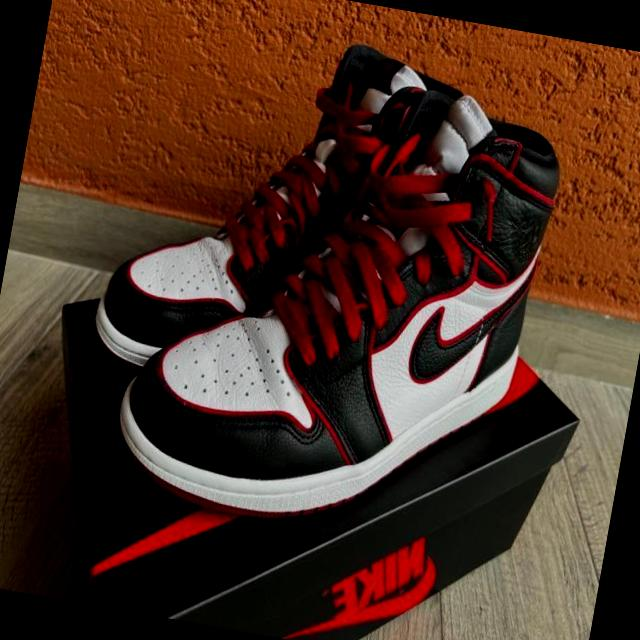nike_original_jordan: (100, 39, 574, 563), (84, 8, 454, 418)
